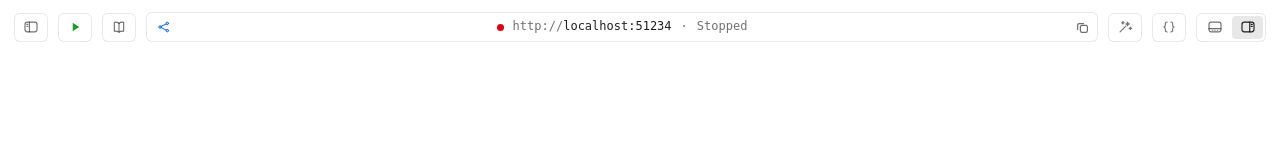
Test: accepting the move puts the gateway on a free port and the pill follows
This screenshot has width=1280, height=160.
Click the button named "Start" at x=75, y=27, box top-left (58, 12), bottom-right (92, 42)
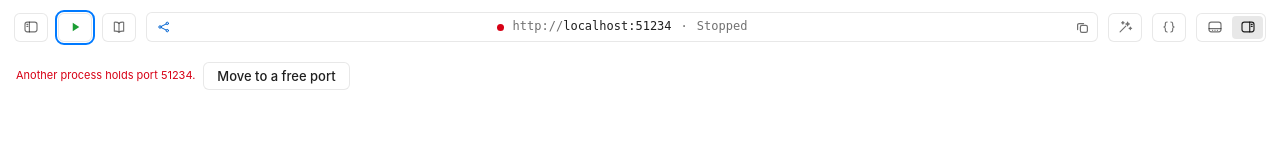
Check: the button "Move to a free port" is shown
Click the button "Move to a free port" at x=276, y=76, box top-left (203, 62), bottom-right (350, 90)
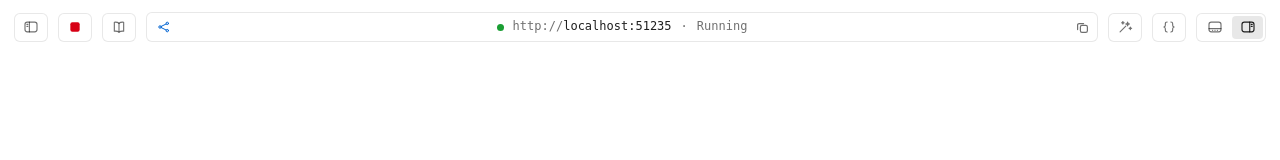
Check: the text "localhost:51235" is shown, box top-left (563, 19), bottom-right (672, 33)
